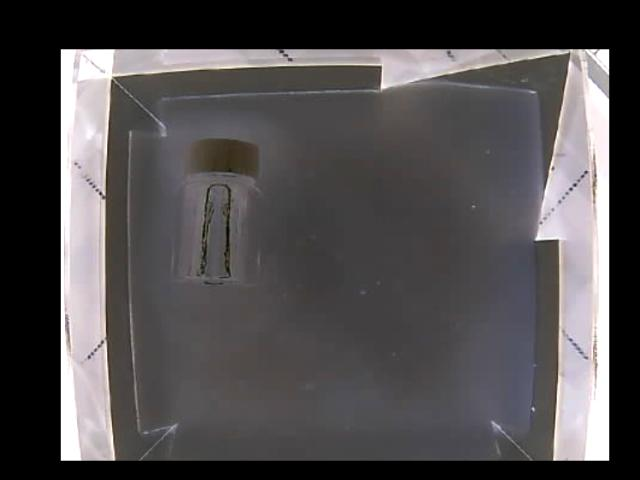Bottle: (169, 140, 263, 286)
